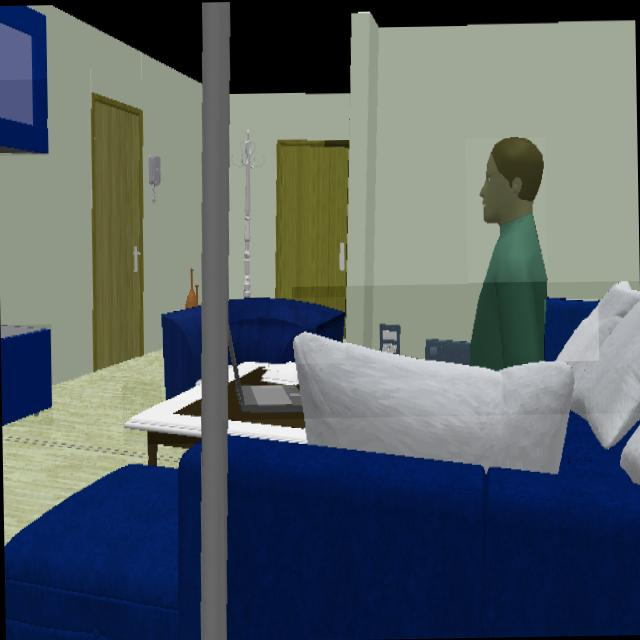book: (260, 362, 298, 387)
cabinet: (0, 325, 51, 427), (0, 79, 47, 155)
laptop: (228, 334, 302, 414)
person: (469, 138, 547, 372)
pillow: (292, 282, 640, 486)
sofa: (226, 414, 640, 640), (4, 445, 201, 640), (226, 299, 345, 363), (160, 306, 201, 400), (545, 299, 598, 361)
table: (123, 379, 201, 466), (227, 364, 302, 443), (237, 361, 267, 385)
